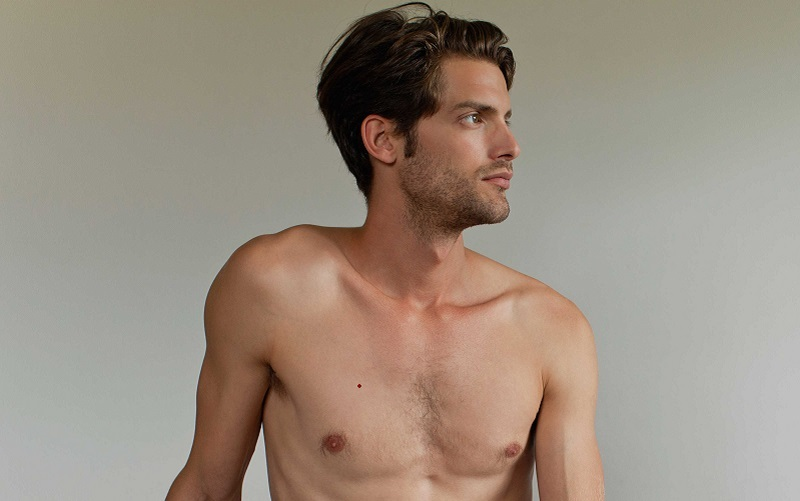mole: (351, 376, 365, 395)
